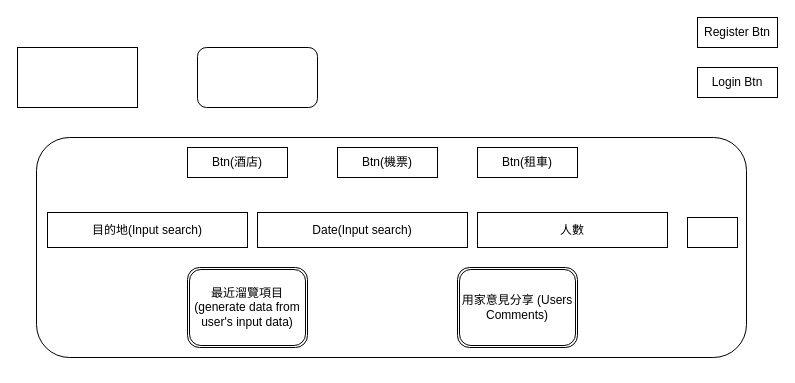
The diagram is 795 pixels wide and 383 high, and some of its shapes have lost their labels. The shapes that lost their labels are listed below. From the top down, each one's centre as x and y in pixels, then its label:
At point 77,77: "Logo".
At point 257,77: "Member Register".
At point 712,232: "Btn(search)".
